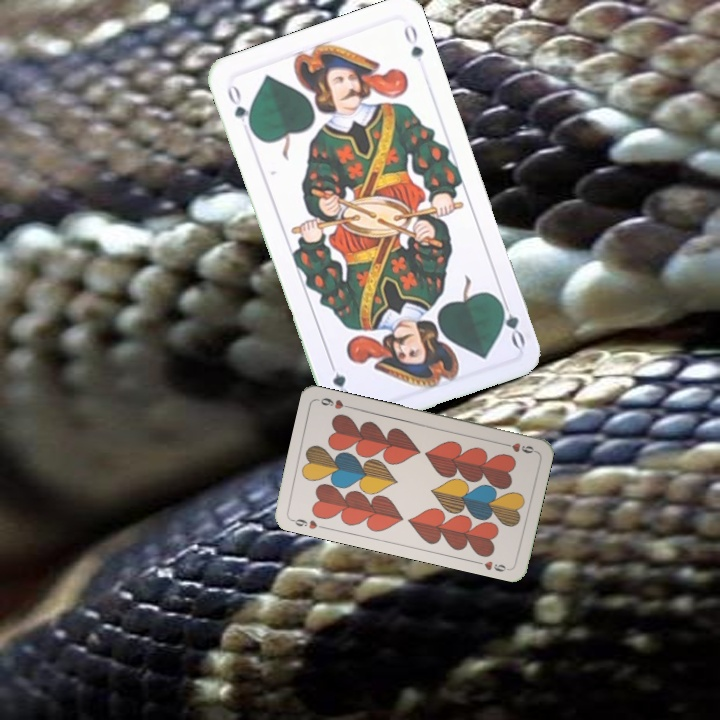GO: (493, 292, 528, 350), (223, 81, 256, 135)
H9: (498, 439, 538, 456), (287, 515, 320, 532)
